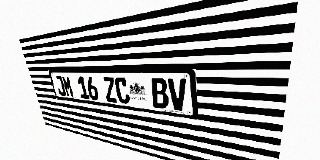1: (76, 76, 90, 99)
6: (85, 76, 100, 100)
B: (150, 78, 169, 109)
C: (114, 77, 131, 104)
J: (54, 76, 67, 96)
M: (62, 76, 74, 97)
V: (167, 78, 188, 111)
Z: (102, 77, 118, 103)
